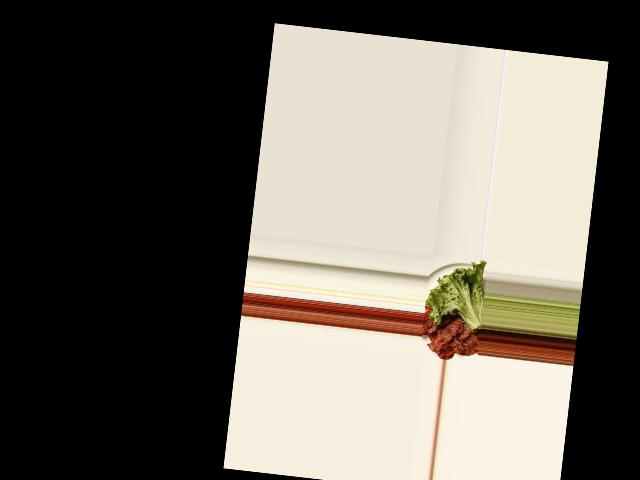lettuce: (424, 258, 488, 329)
